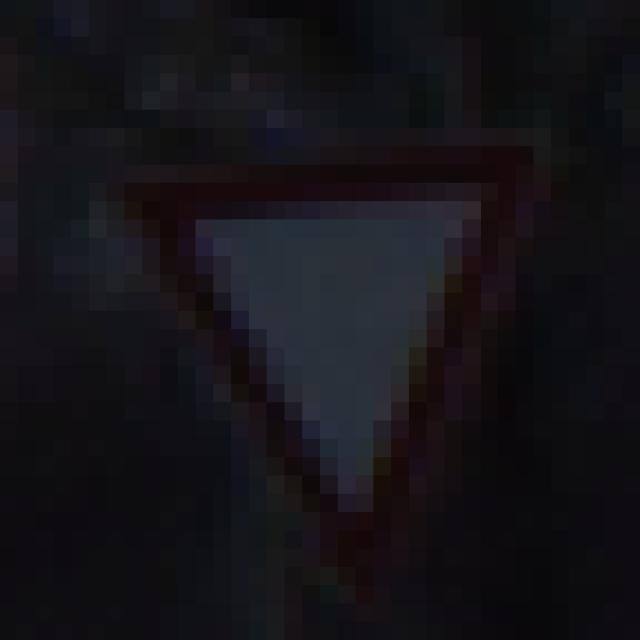Give Way: (108, 111, 552, 550)
